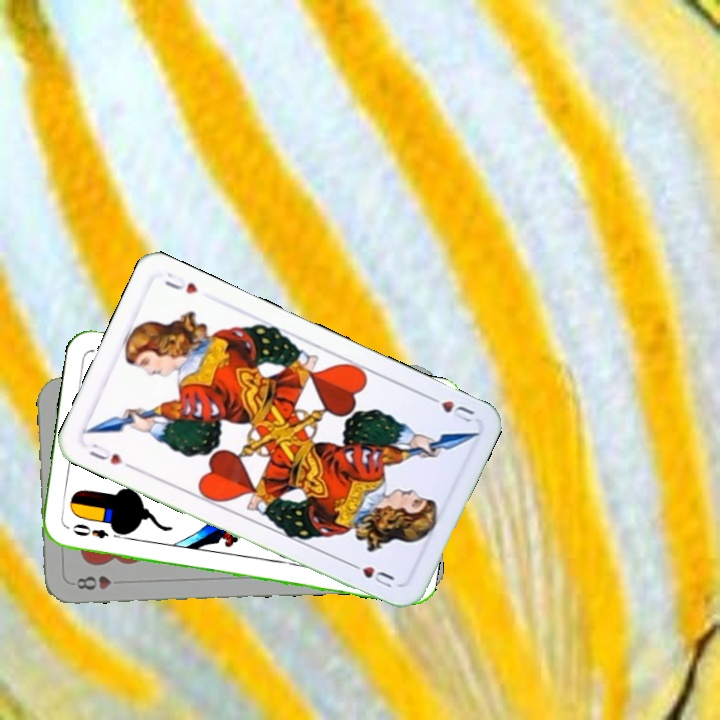EO: (69, 519, 124, 542)
H8: (68, 572, 114, 592)
HU: (422, 391, 478, 425), (84, 439, 137, 472)
